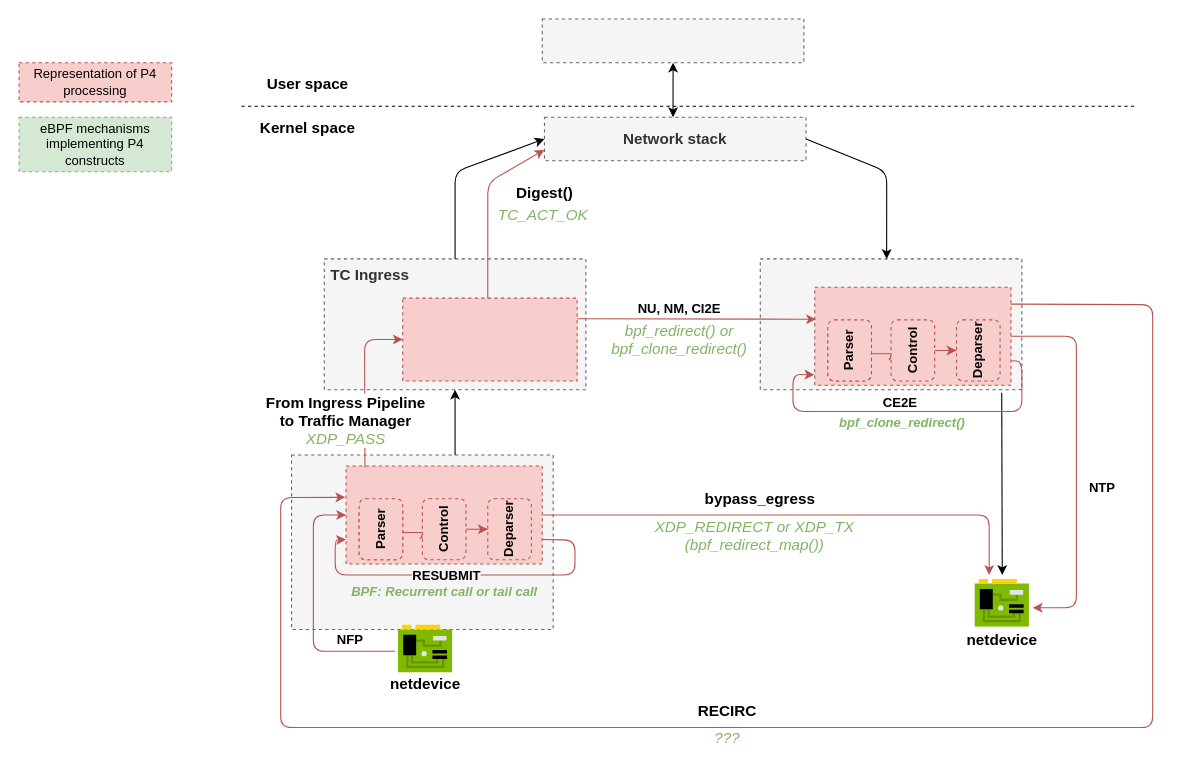
The diagram is 1202 pixels wide and 768 high, and some of its shapes have lost their labels. The box of each missing label's shape, as (x1, y1, x2, y2) in pixels:
Network applications: (541, 18, 804, 63)
PSA Egress: (814, 286, 1011, 385)
PSA Ingress: (345, 465, 542, 564)
PSA Traffic Manager: (402, 297, 577, 381)
TC Egress: (759, 258, 1022, 390)
XDP: (290, 454, 553, 629)
